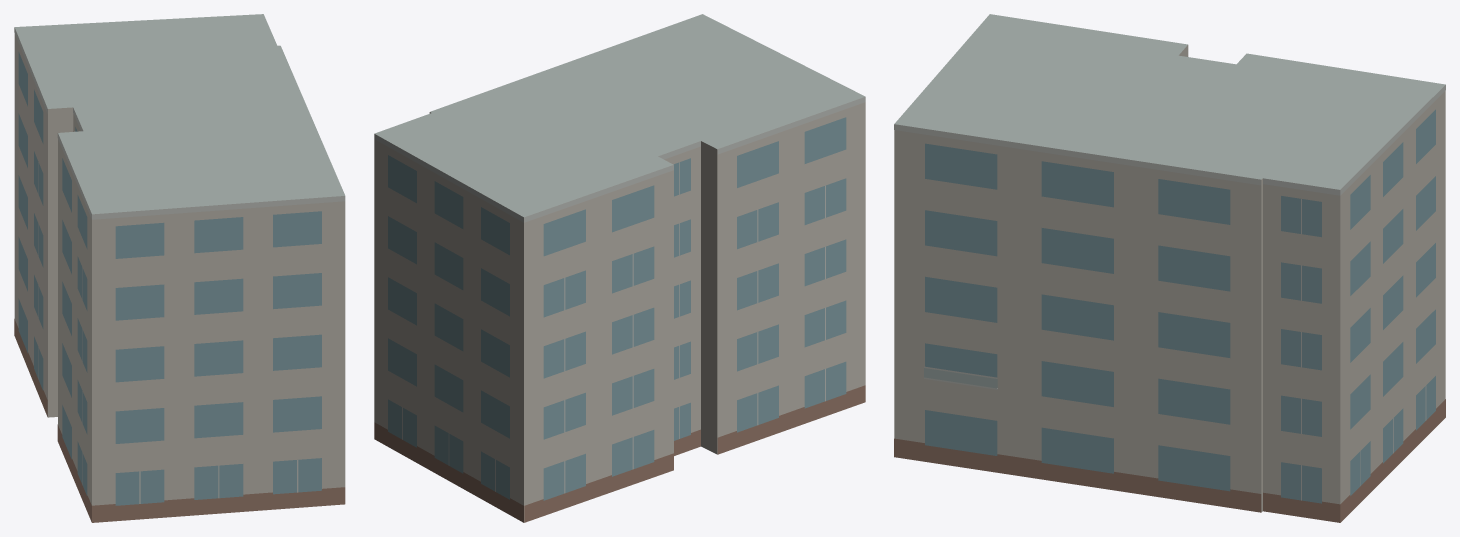
Rendered from survey-upis-32669105.glb.
The picture shows the model from 3 angles, left to right: view 1: azimuth 30°, elevation 25°; view 2: azimuth 150°, elevation 25°; view 3: azimuth 270°, elevation 25°; orthographic projection. The views are drawn at different scales.
Parts seen in each view (by area): view 1: survey-upis-32669105.tmp; view 2: survey-upis-32669105.tmp; view 3: survey-upis-32669105.tmp.
Boxes of the visible parts, x1,y1,x2,y2 form: survey-upis-32669105.tmp: (14,14,345,522); survey-upis-32669105.tmp: (374,14,865,522); survey-upis-32669105.tmp: (894,14,1445,522).
Bounding box in the file's own units: 15.64 × 13.8 × 20.73.
